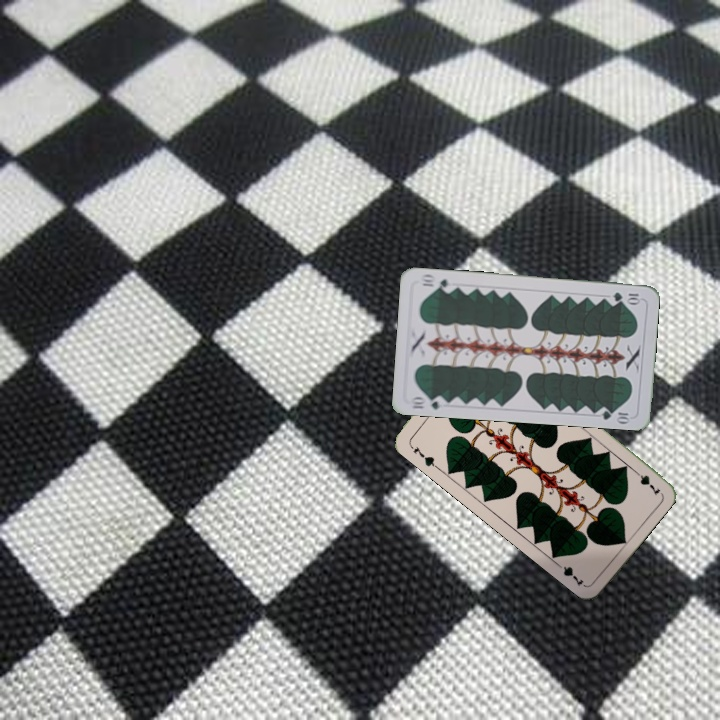G10: (407, 392, 447, 412), (609, 288, 643, 305)
G7: (628, 465, 663, 498), (406, 441, 440, 471)
